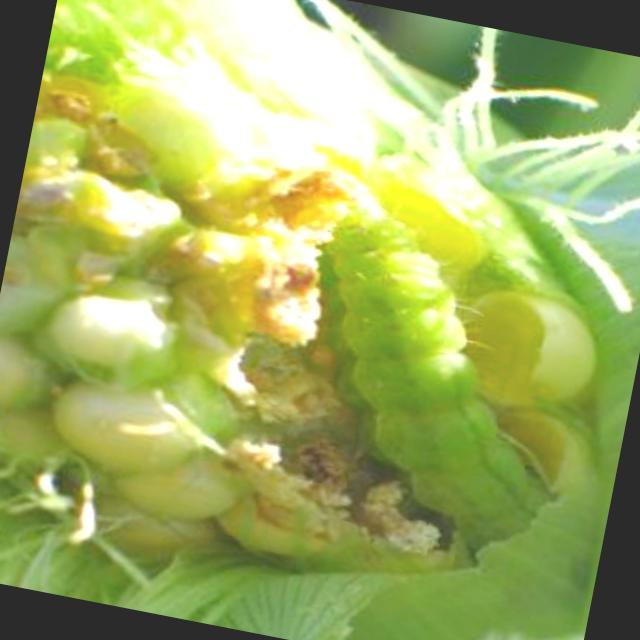Cotton bollworm: (204, 124, 635, 582)
